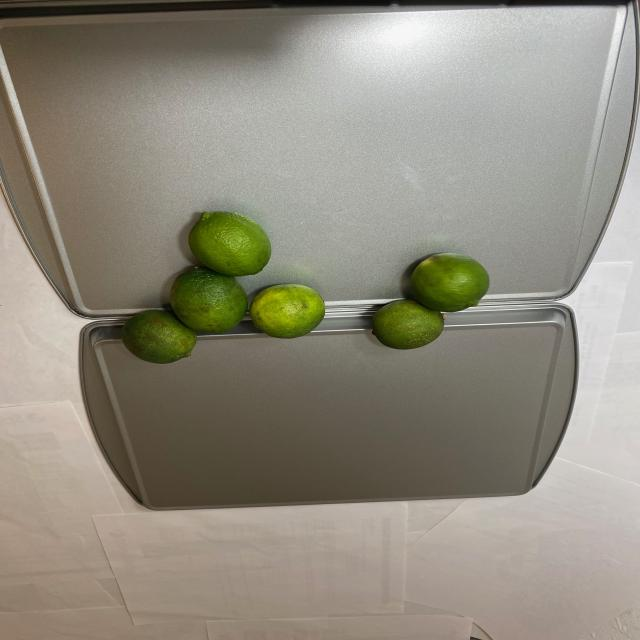lemon: (115, 206, 329, 365), (356, 243, 500, 354)
